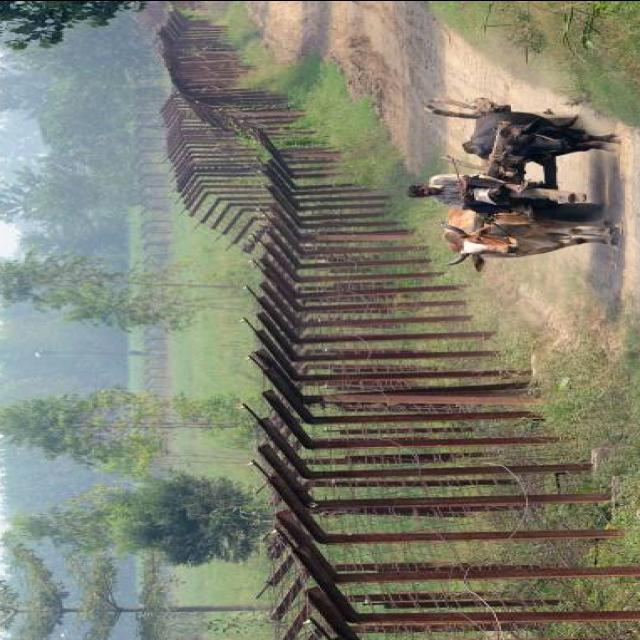civilian: (409, 174, 499, 211)
